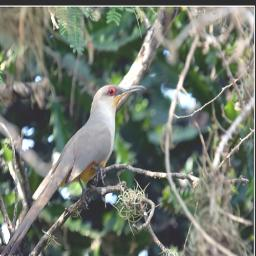Cuckoo: (0, 82, 147, 256)
